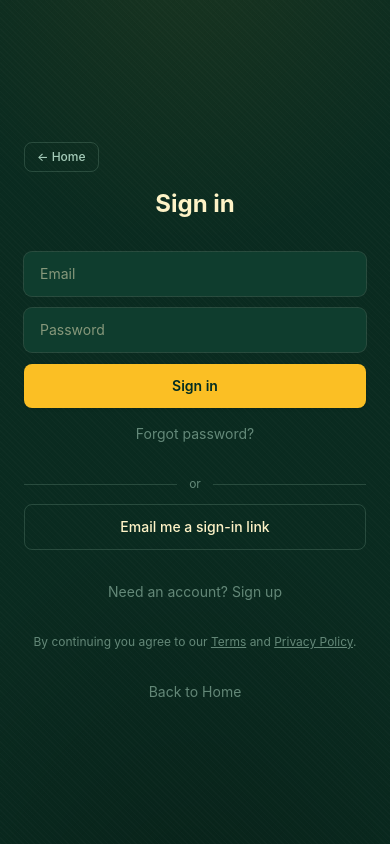
it: heading tracks the active mode › shows Send reset link while in forgot-password mode
Click the button "Forgot password?" at (195, 434), box [24,424,366,444]
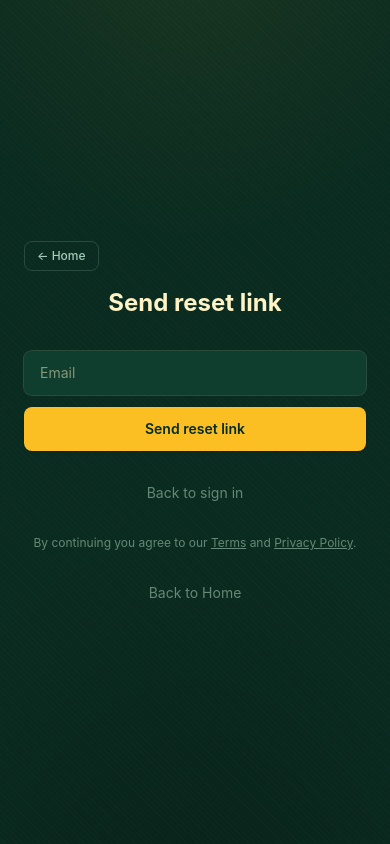
Expected: the heading "Send reset link" is shown, [108,288,282,317]
